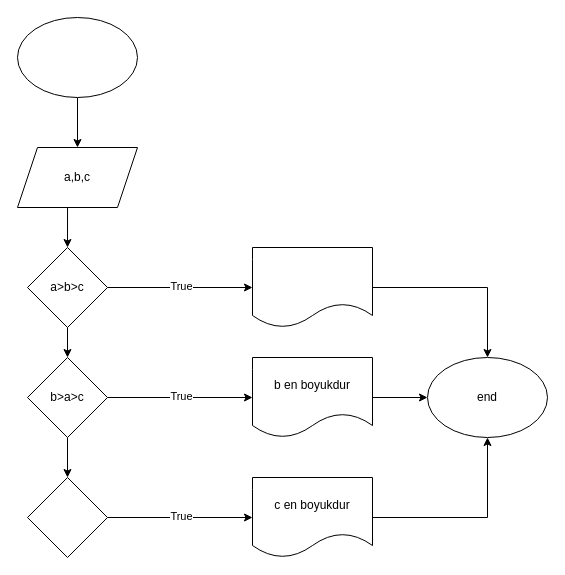
The diagram is 565 pixels wide and 575 high, and some of its shapes have lost their labels. The shapes that lost their labels are listed below. From the top down, each one's box as (x1, y1, x2, y2) in pixels, then its label:
(16, 16, 138, 98): start
(252, 246, 372, 328): a en boyukdur
(26, 476, 108, 558): c>b>a
